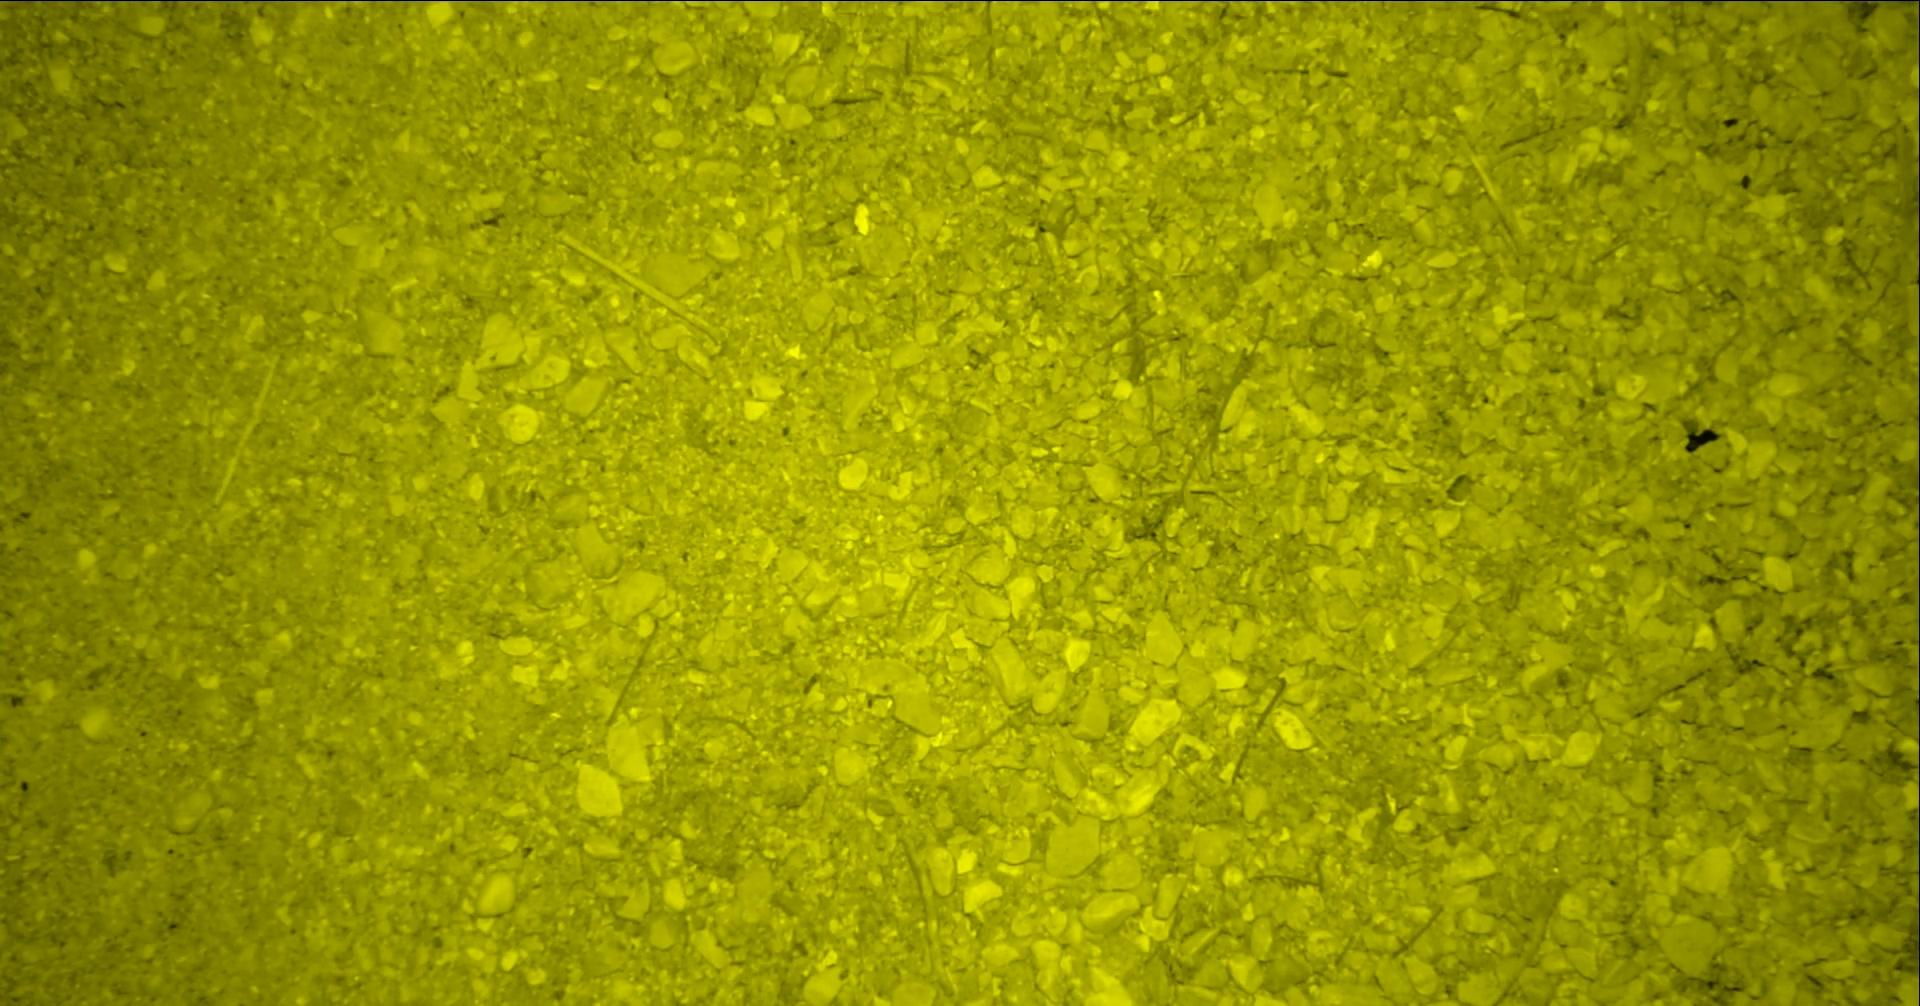ant: (1851, 0, 1920, 4), (42, 0, 91, 1)
